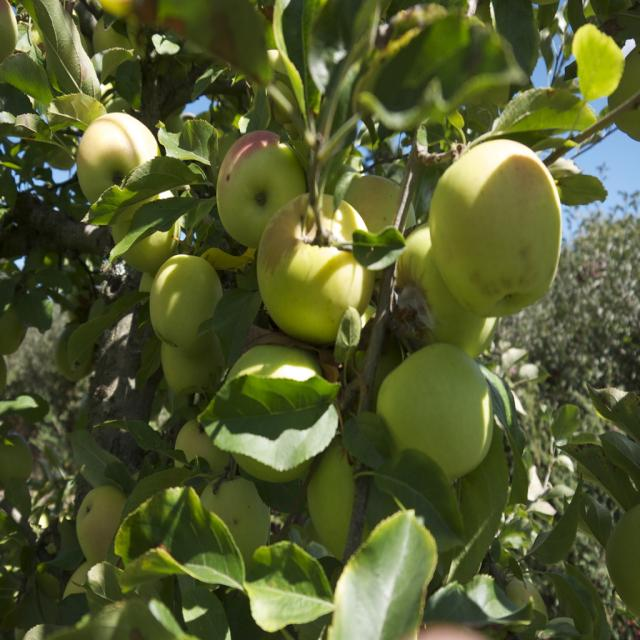Healty Apple: (59, 108, 504, 599), (426, 136, 573, 317), (601, 501, 640, 614), (0, 432, 36, 487), (90, 14, 132, 56), (0, 0, 19, 64)
